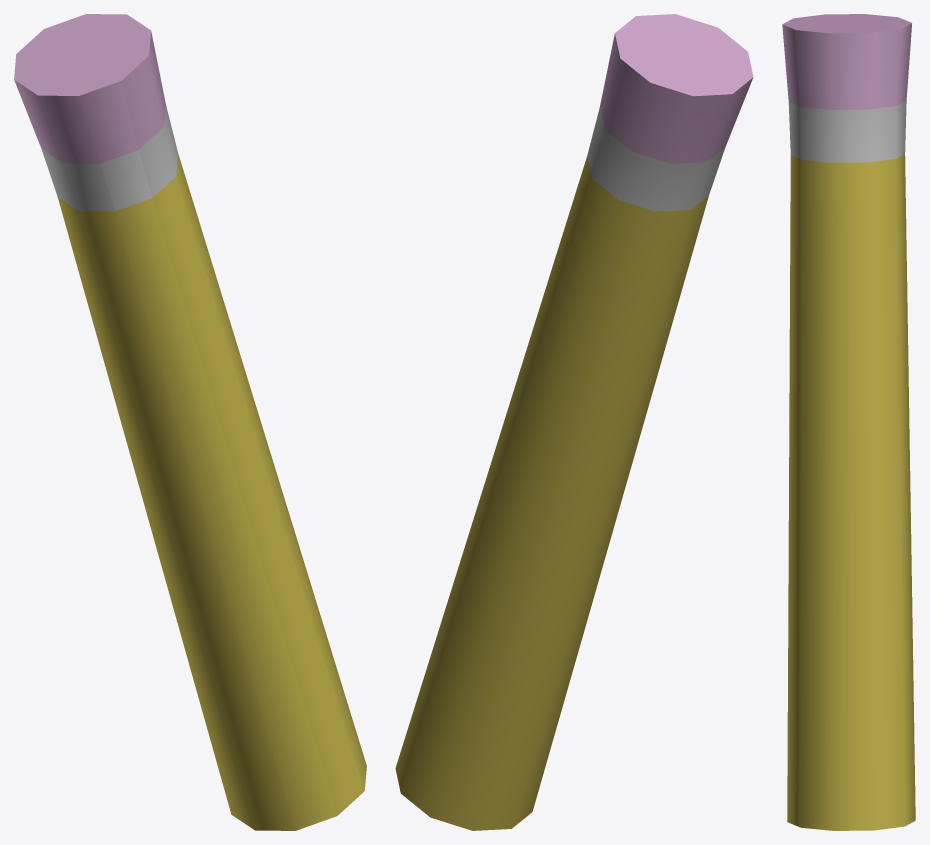
Rendered from PencilA.glb.
The picture shows the model from 3 angles, left to right: view 1: azimuth 30°, elevation 25°; view 2: azimuth 150°, elevation 25°; view 3: azimuth 270°, elevation 25°; orthographic projection. The views are drawn at different scales.
Visible parts, largest first — view 1: PencilA; view 2: PencilA; view 3: PencilA.
Part boxes in pixels (box(x1,y1,x2,y2)): PencilA: box(14, 14, 366, 830); PencilA: box(395, 14, 753, 830); PencilA: box(782, 14, 915, 830).
Bounding box in the file's own units: 0.1283 × 0.3019 × 0.0497.
